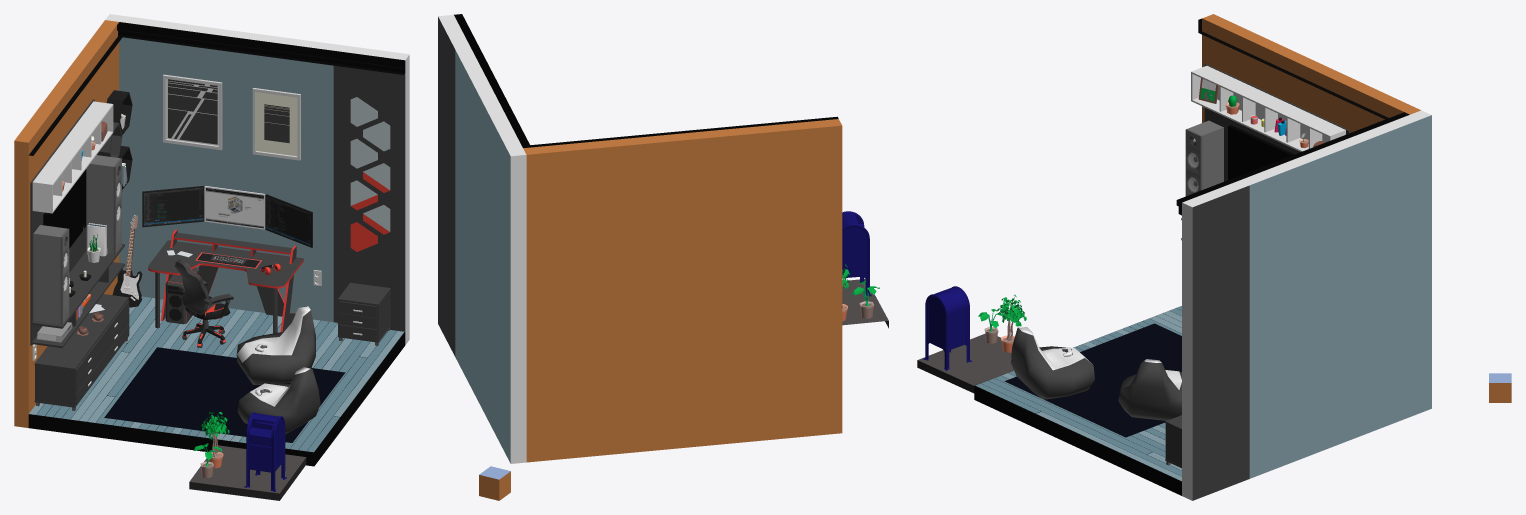
Rendered from NewFinal2.glb.
The picture shows the model from 3 angles, left to right: view 1: azimuth 30°, elevation 25°; view 2: azimuth 150°, elevation 25°; view 3: azimuth 270°, elevation 25°; orthographic projection. The views are drawn at different scales.
Visible parts, largest first — view 1: walls, floor items, accessories1, wallitems1, monitor1Screen, miniFloor, mailbox, Chair, screen, flowers; view 2: walls, mailbox, miniFloor, Cube, flowers; view 3: walls, floor items, accessories1, miniFloor, mailbox, screen, wallitems1, flowers, Cube.
Part boxes in pixels (bbox=[...]): walls: bbox=[14, 14, 409, 466]; floor items: bbox=[29, 215, 404, 452]; accessories1: bbox=[32, 101, 321, 396]; wallitems1: bbox=[30, 74, 300, 348]; monitor1Screen: bbox=[142, 186, 312, 247]; miniFloor: bbox=[189, 445, 306, 500]; mailbox: bbox=[244, 412, 286, 491]; Chair: bbox=[174, 259, 233, 320]; screen: bbox=[48, 170, 85, 243]; flowers: bbox=[194, 412, 229, 477]; walls: bbox=[438, 14, 842, 463]; mailbox: bbox=[842, 211, 871, 296]; miniFloor: bbox=[842, 279, 888, 328]; Cube: bbox=[479, 466, 510, 500]; flowers: bbox=[842, 264, 879, 321]; walls: bbox=[974, 14, 1431, 500]; floor items: bbox=[975, 306, 1181, 481]; accessories1: bbox=[1062, 65, 1345, 375]; miniFloor: bbox=[917, 334, 1013, 393]; mailbox: bbox=[923, 286, 971, 370]; screen: bbox=[1230, 129, 1288, 179]; wallitems1: bbox=[1181, 63, 1349, 240]; flowers: bbox=[978, 294, 1026, 352]; Cube: bbox=[1489, 373, 1511, 402].
Size of the model in its own units: 40.88 by 28.94 by 53.06.
81 materials, 65 textured.
